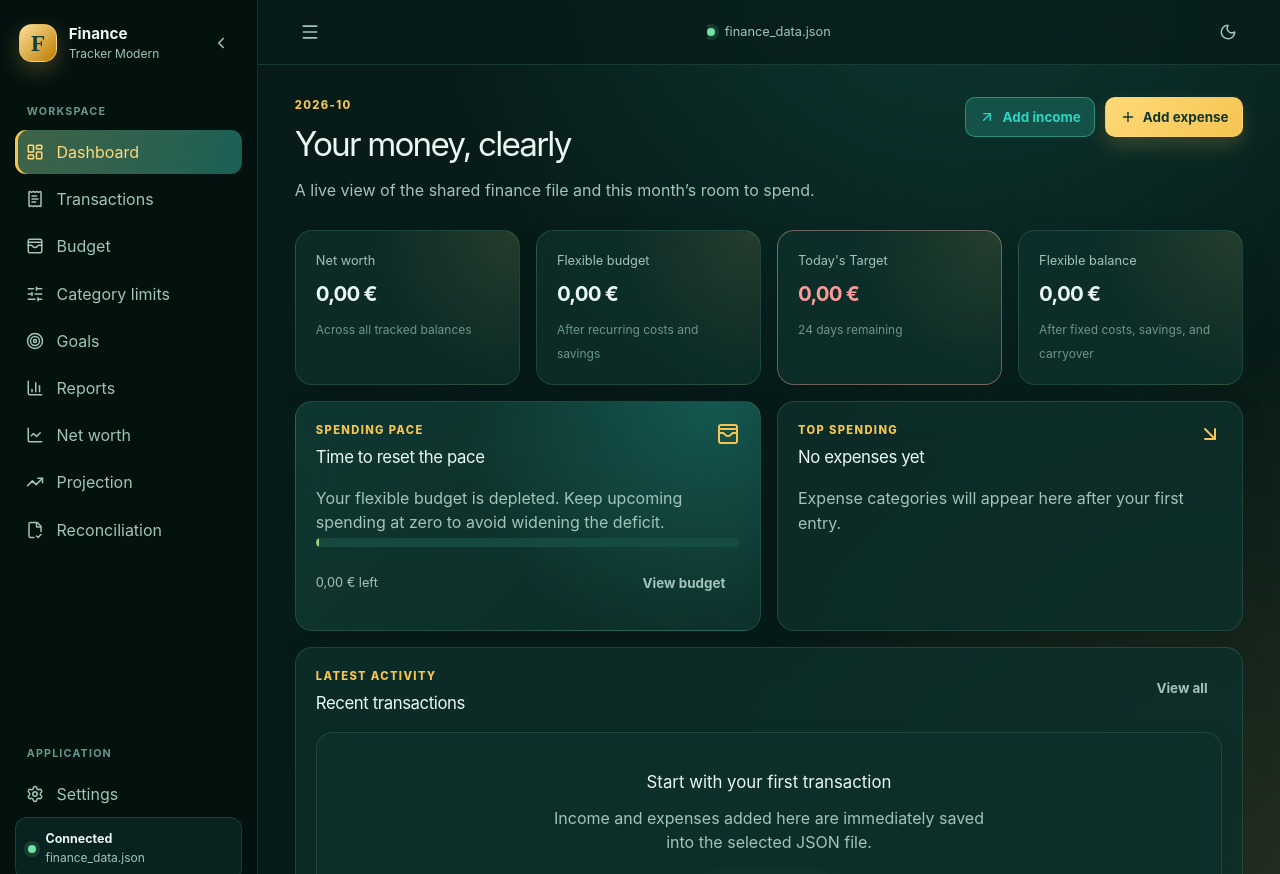
Test: App navigation › keeps dialog editing and ordinary interactions native
This screenshot has width=1280, height=874.
Step 1. Click the button "Transactions" → coordinates (128, 199), box [15, 177, 242, 221]
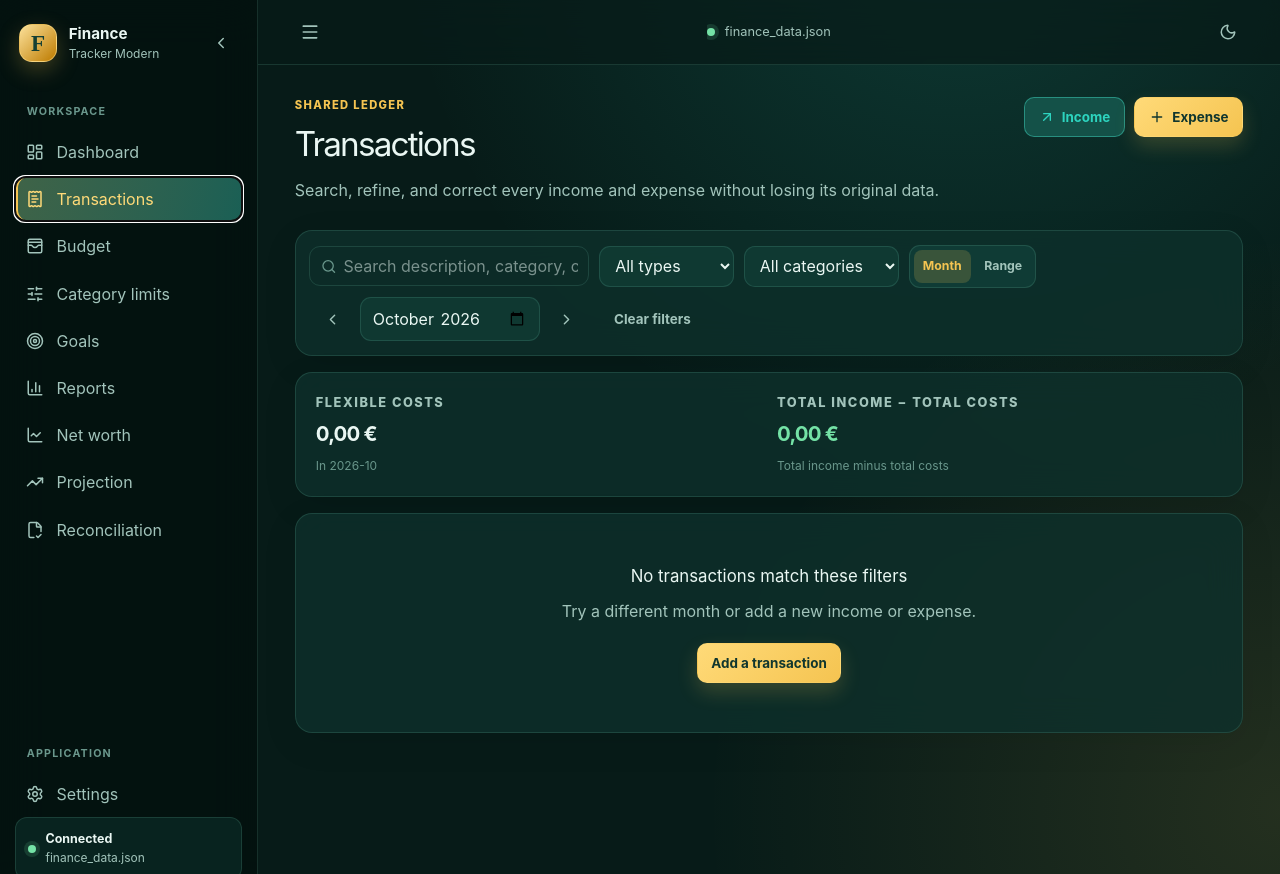
Step 2. Click the button "Expense" → coordinates (1189, 117), box [1134, 97, 1243, 137]
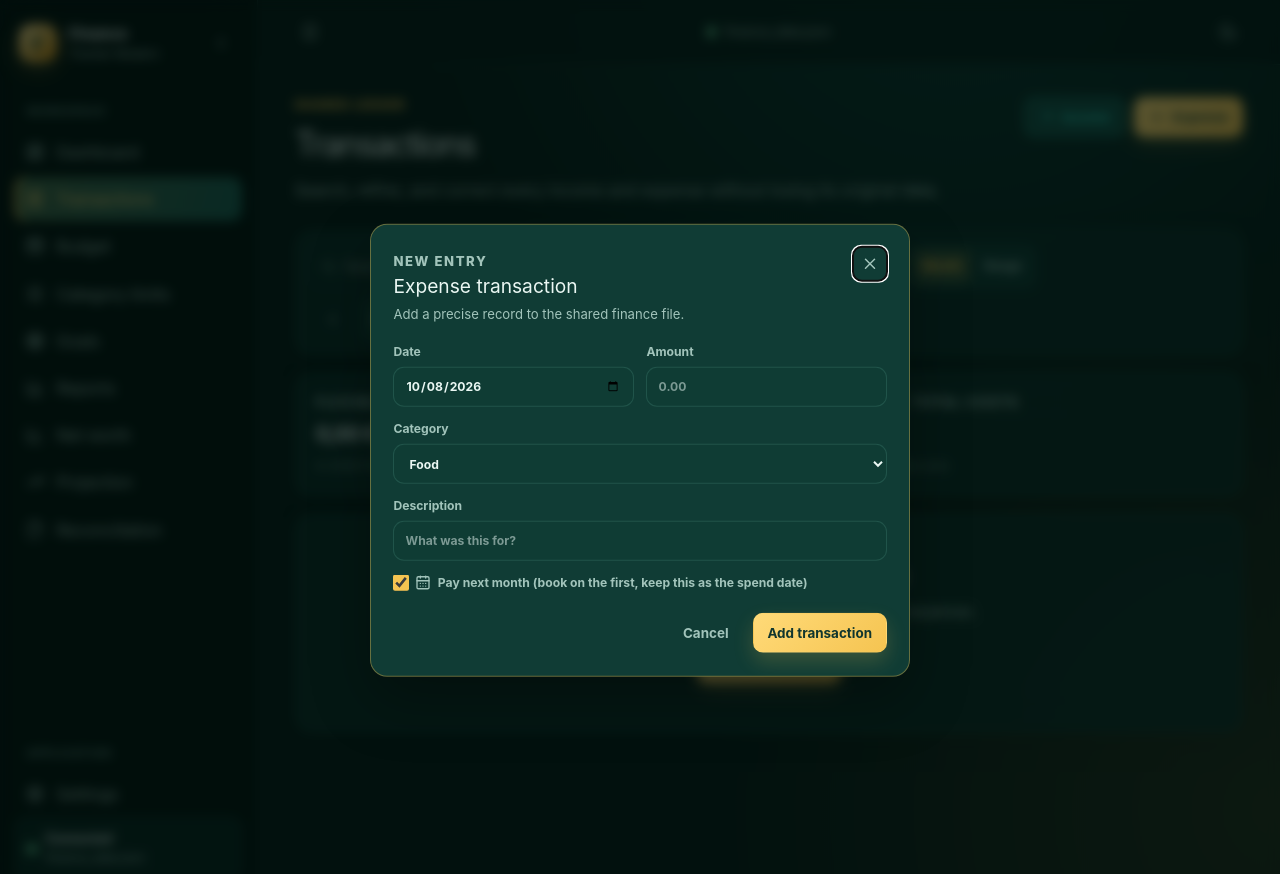
Step 3. Type " lunch" into the field labelled "Description" → coordinates (640, 541), box [393, 521, 887, 561]
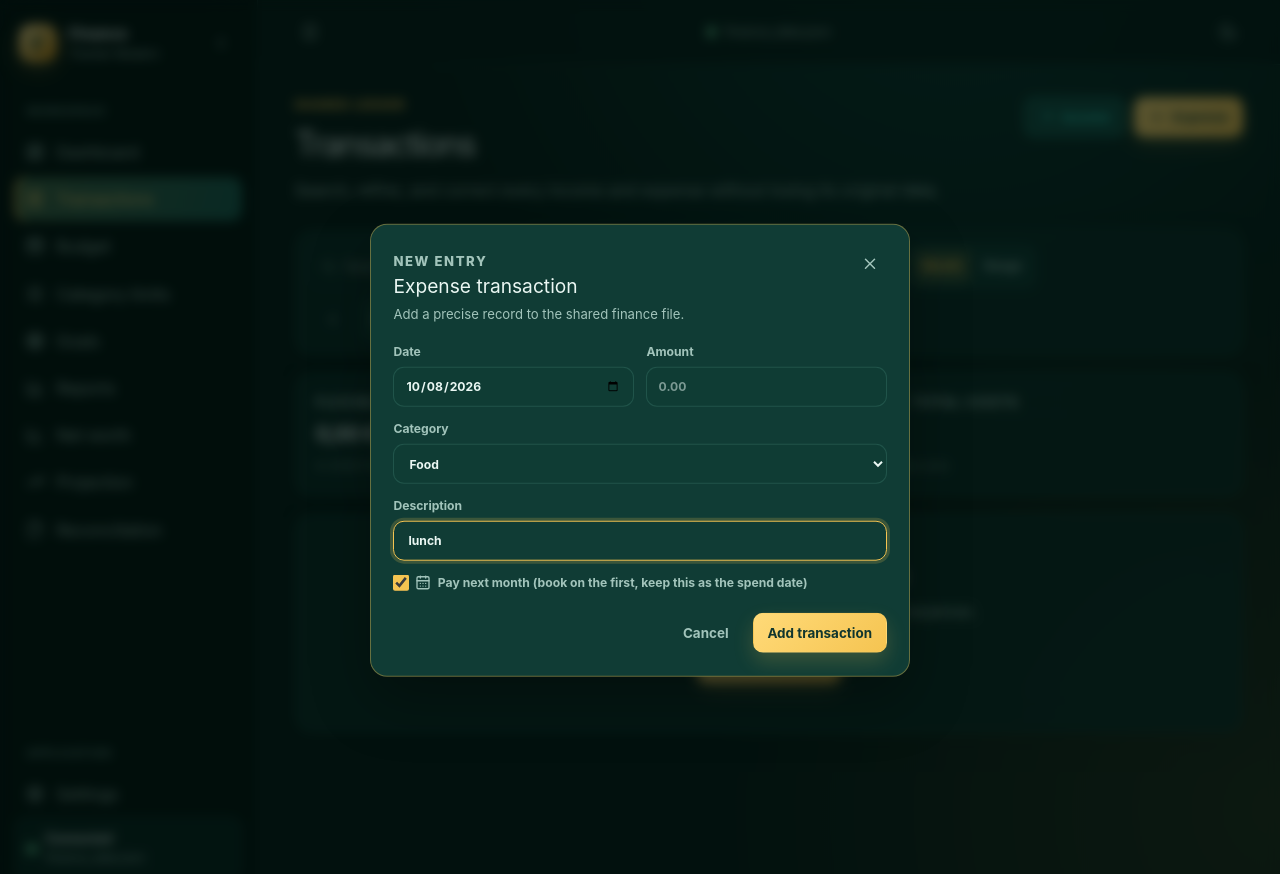
Step 4. Press Escape
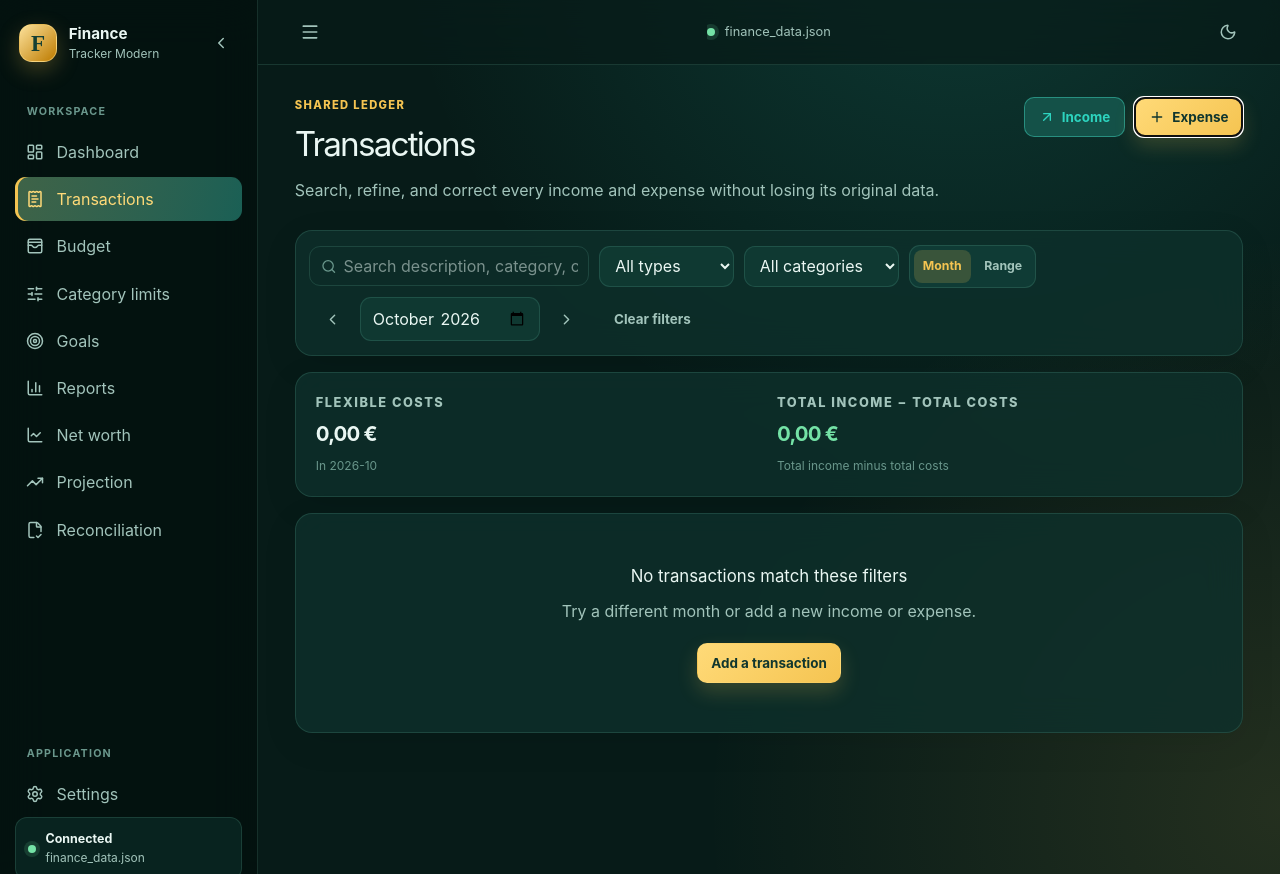
Now the dialog is gone
